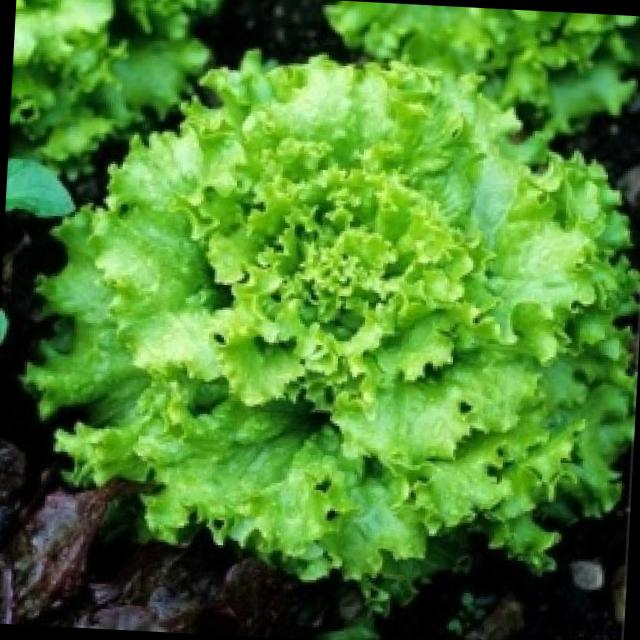Lettuce-Ready-to-Harvest: (29, 58, 636, 587), (328, 1, 637, 134), (8, 0, 217, 175)
